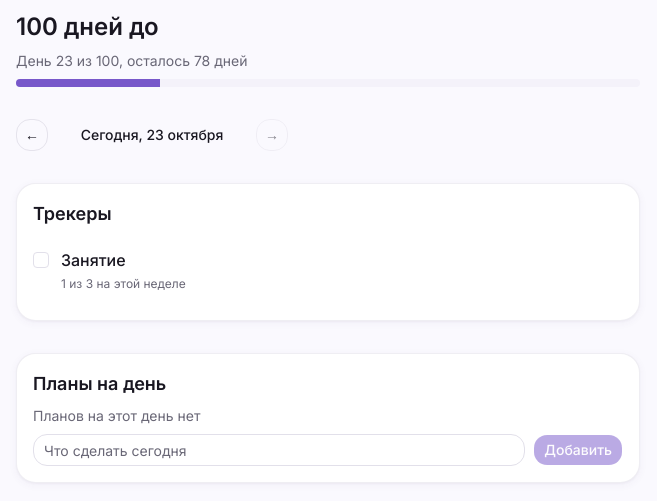
it: DayScreen без параметра даты › недельный счёт растёт сразу
Check: the text "1 из 3 на этой неделе" is shown, box [61,276,186,291]
Step 1. Click the checkbox named "Занятие" → [41, 260], box [33,252,49,268]
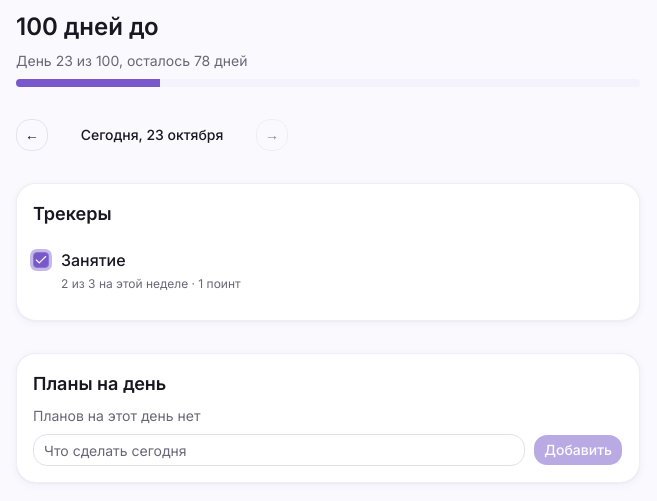
Check: the text "2 из 3 на этой неделе · 1 поинт" is shown, box [61,276,241,291]
